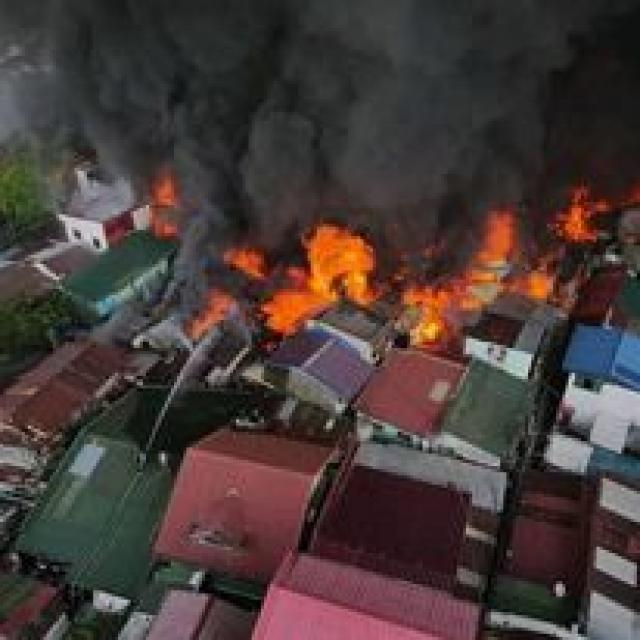Fire: (210, 235, 318, 327), (298, 232, 394, 306), (478, 202, 549, 298), (406, 235, 452, 343), (553, 179, 602, 249), (147, 170, 180, 230)
Smoke: (25, 0, 640, 228)
